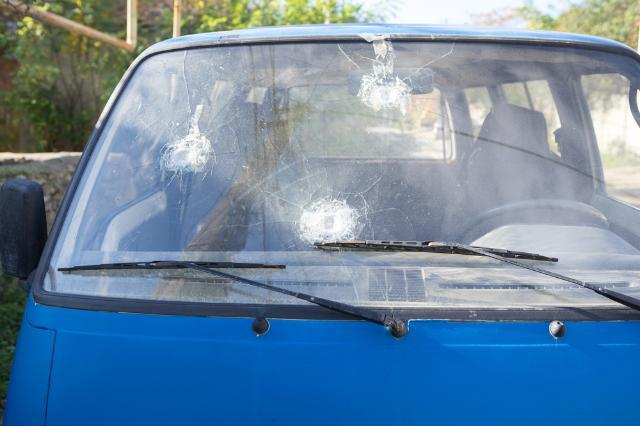glass shatter: (43, 42, 640, 309)
